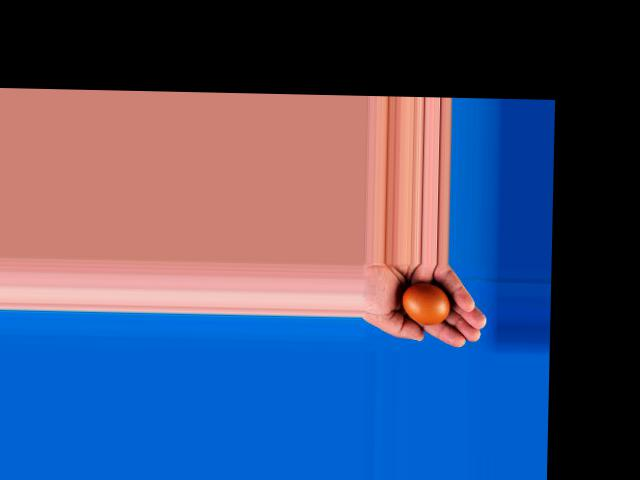egg: (402, 283, 451, 324)
